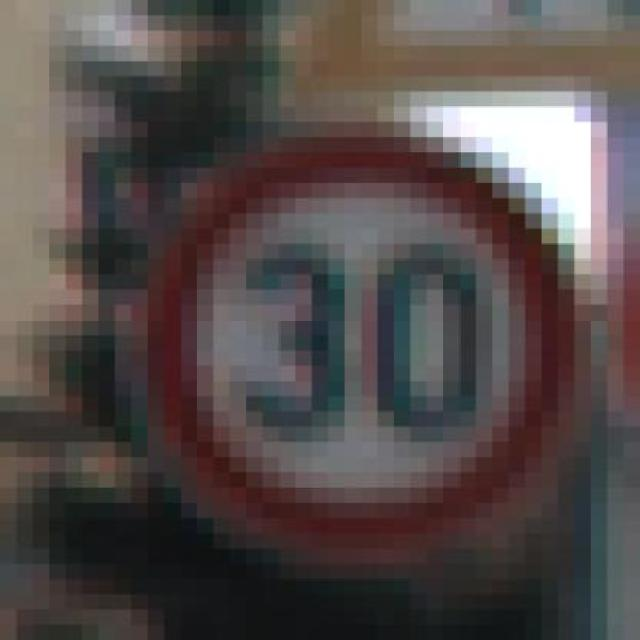Speed Limit 30 KMPh: (66, 107, 592, 564)
